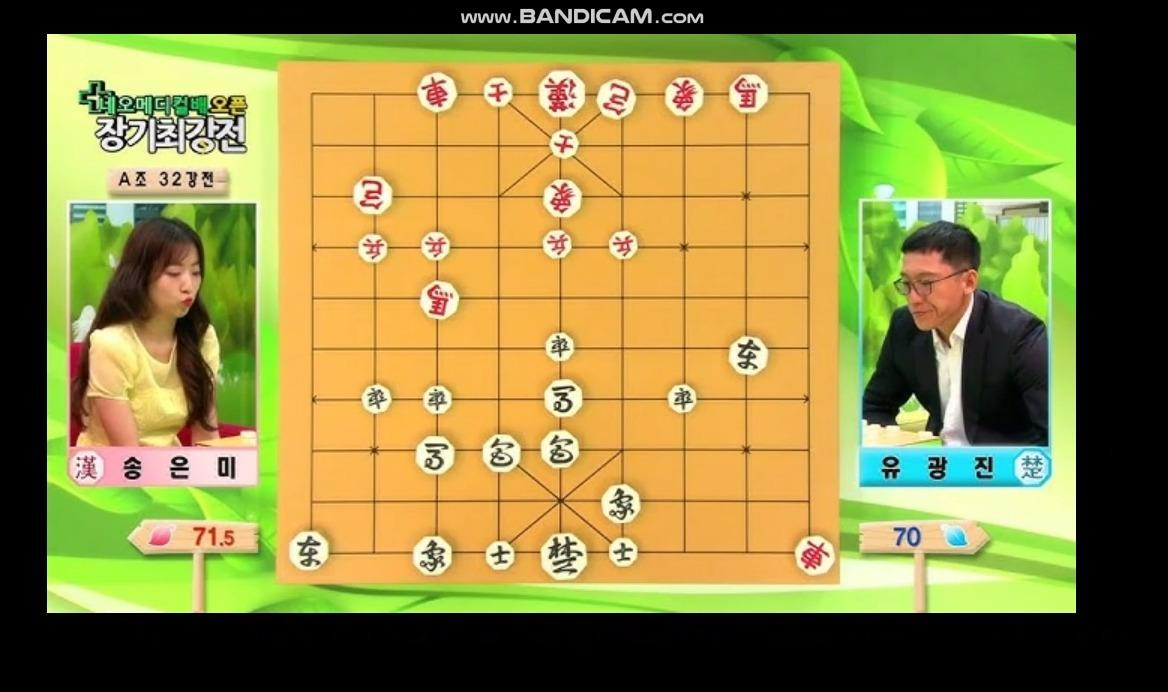cha_green: (727, 337, 769, 376), (287, 531, 328, 570)
cha_red: (416, 74, 460, 111), (795, 536, 836, 574)
jol_green: (666, 385, 698, 414), (421, 387, 455, 414), (360, 385, 393, 412), (543, 334, 576, 359)
jol_red: (607, 230, 644, 258), (541, 230, 576, 258), (357, 235, 391, 261), (420, 232, 452, 259)
ma_green: (416, 437, 458, 474), (542, 382, 584, 416)
ma_red: (728, 74, 768, 114), (418, 281, 460, 317)
po_green: (483, 435, 522, 474), (540, 432, 581, 467)
po_red: (595, 82, 639, 119), (352, 177, 395, 213)
sa_green: (607, 539, 641, 566), (485, 543, 518, 569)
sa_red: (482, 75, 516, 108), (547, 131, 582, 158)
sang_green: (601, 487, 642, 523), (413, 538, 454, 574)
sang_red: (664, 79, 705, 117), (542, 182, 584, 216)
wang_green: (542, 533, 589, 579)
wang_red: (539, 73, 584, 117)
